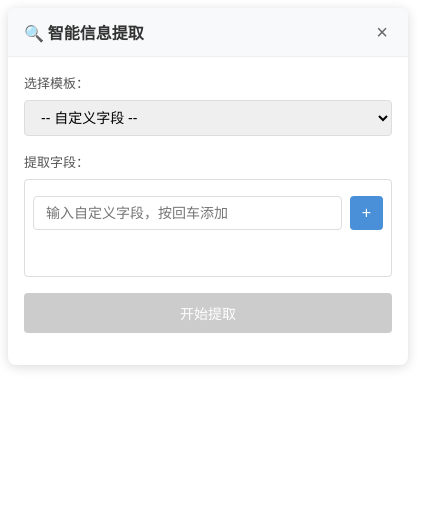
Scenario: SmartExtractPanel › API Calls › should display extraction results
This screenshot has width=428, height=512.
In the field with id "custom-field-input": (187, 213) x1=33 y1=196 x2=342 y2=230, type "金额"
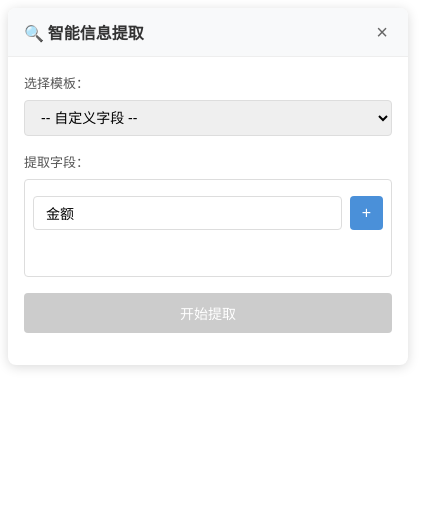
Click the button with id "add-field-btn": (366, 213) x1=350 y1=196 x2=383 y2=230
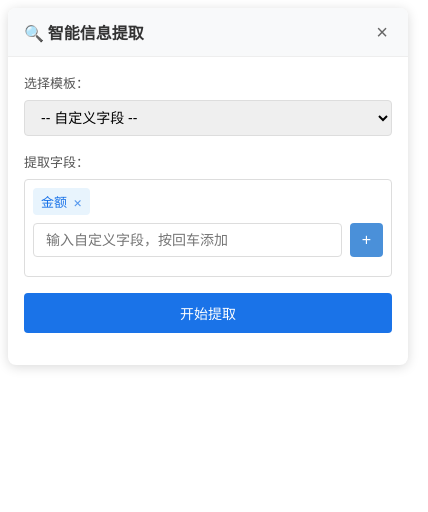
Click the button with id "extract-btn": (208, 313) x1=24 y1=293 x2=392 y2=333
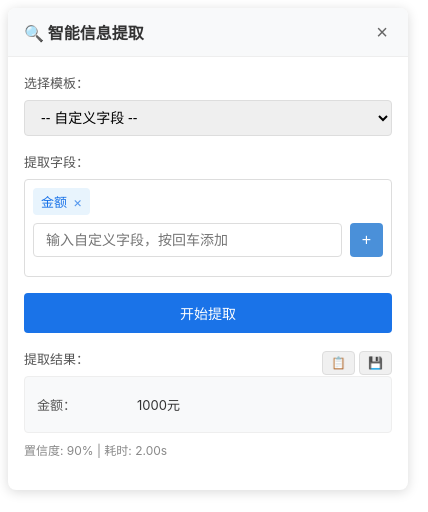
Expected: the element with id "result-content" shows "金额", x1=37 y1=397 x2=76 y2=413
Expected: the element with id "result-content" shows "1000元", x1=137 y1=397 x2=180 y2=413
